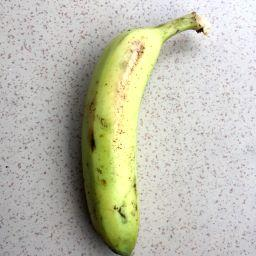Banana Ripe: (73, 12, 210, 256)
